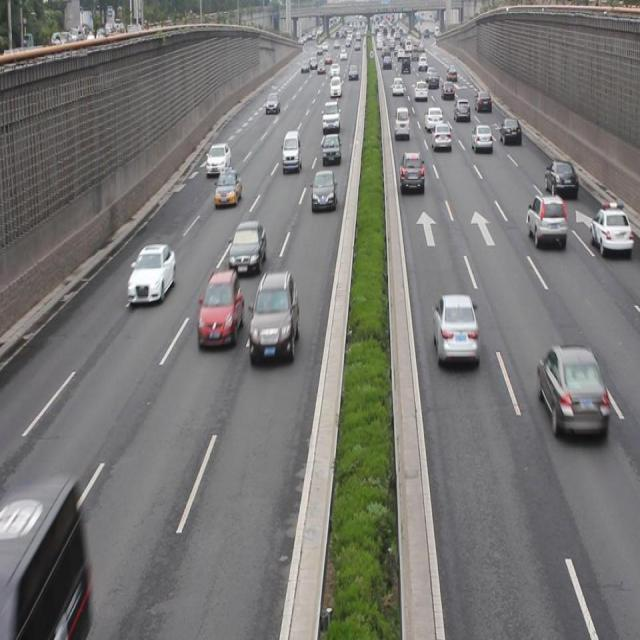car: (536, 341, 608, 438), (248, 269, 298, 364), (197, 271, 242, 350), (432, 292, 477, 366), (127, 242, 176, 306), (588, 203, 640, 254), (527, 192, 564, 249), (229, 219, 265, 276), (543, 157, 577, 200), (398, 150, 424, 193), (310, 168, 336, 211), (214, 167, 241, 208), (205, 141, 231, 175), (320, 133, 341, 167), (470, 122, 492, 153), (430, 121, 451, 150), (320, 100, 340, 130), (499, 116, 520, 144), (423, 105, 442, 131), (454, 98, 470, 121)
truck: (0, 475, 86, 640), (281, 130, 302, 172), (393, 104, 409, 141)
